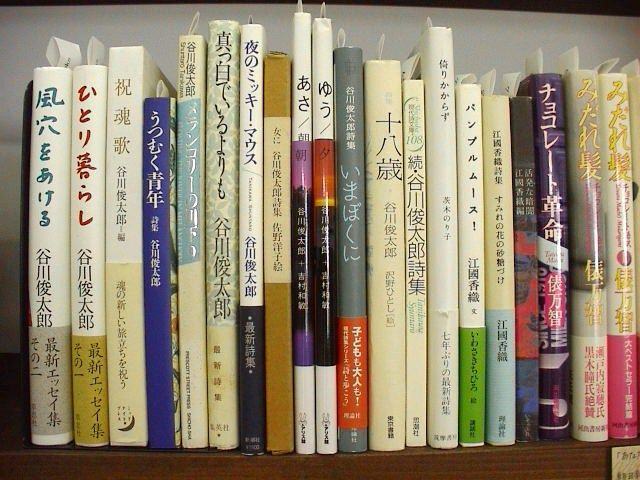book: (29, 64, 74, 447), (330, 44, 371, 455), (107, 43, 148, 450), (68, 62, 111, 448), (203, 18, 241, 451), (366, 58, 407, 452), (174, 30, 210, 451), (570, 71, 610, 443), (261, 51, 294, 455), (141, 92, 177, 453), (536, 70, 570, 441), (291, 10, 319, 456), (239, 20, 267, 459), (310, 16, 338, 455), (430, 27, 459, 446), (454, 80, 487, 448), (484, 90, 516, 444), (399, 76, 429, 449), (511, 93, 541, 442)
